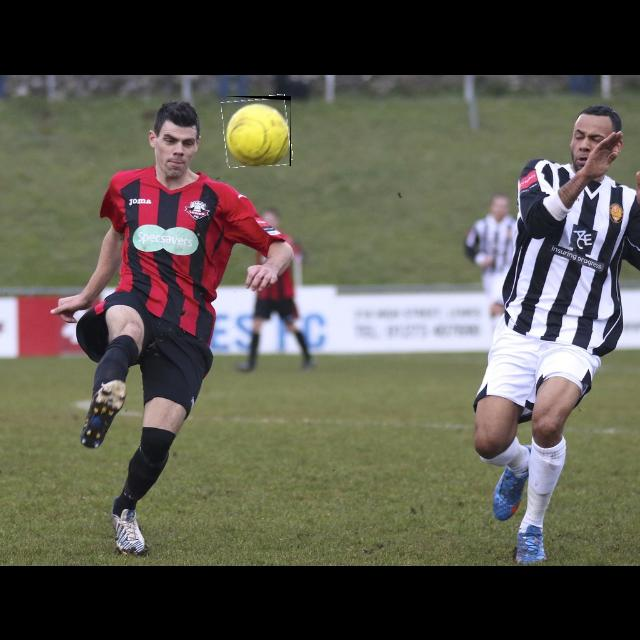Football: (223, 96, 291, 166)
